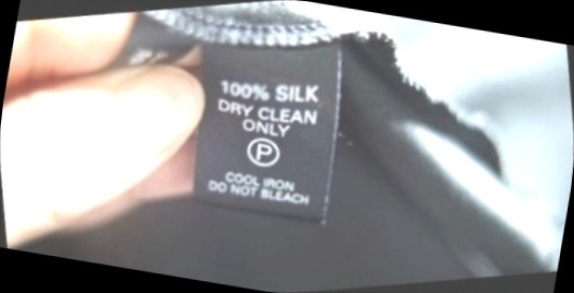dry_clean_any_solvent_except_trichloroethylene: (237, 125, 292, 177)
